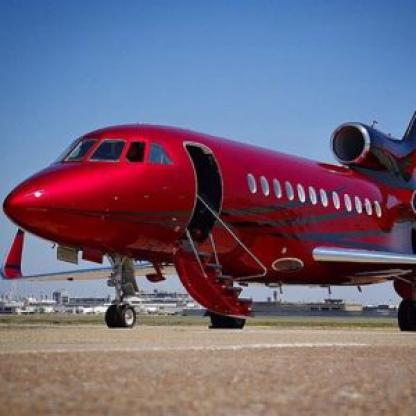CIV_Plane: (3, 98, 414, 327)
